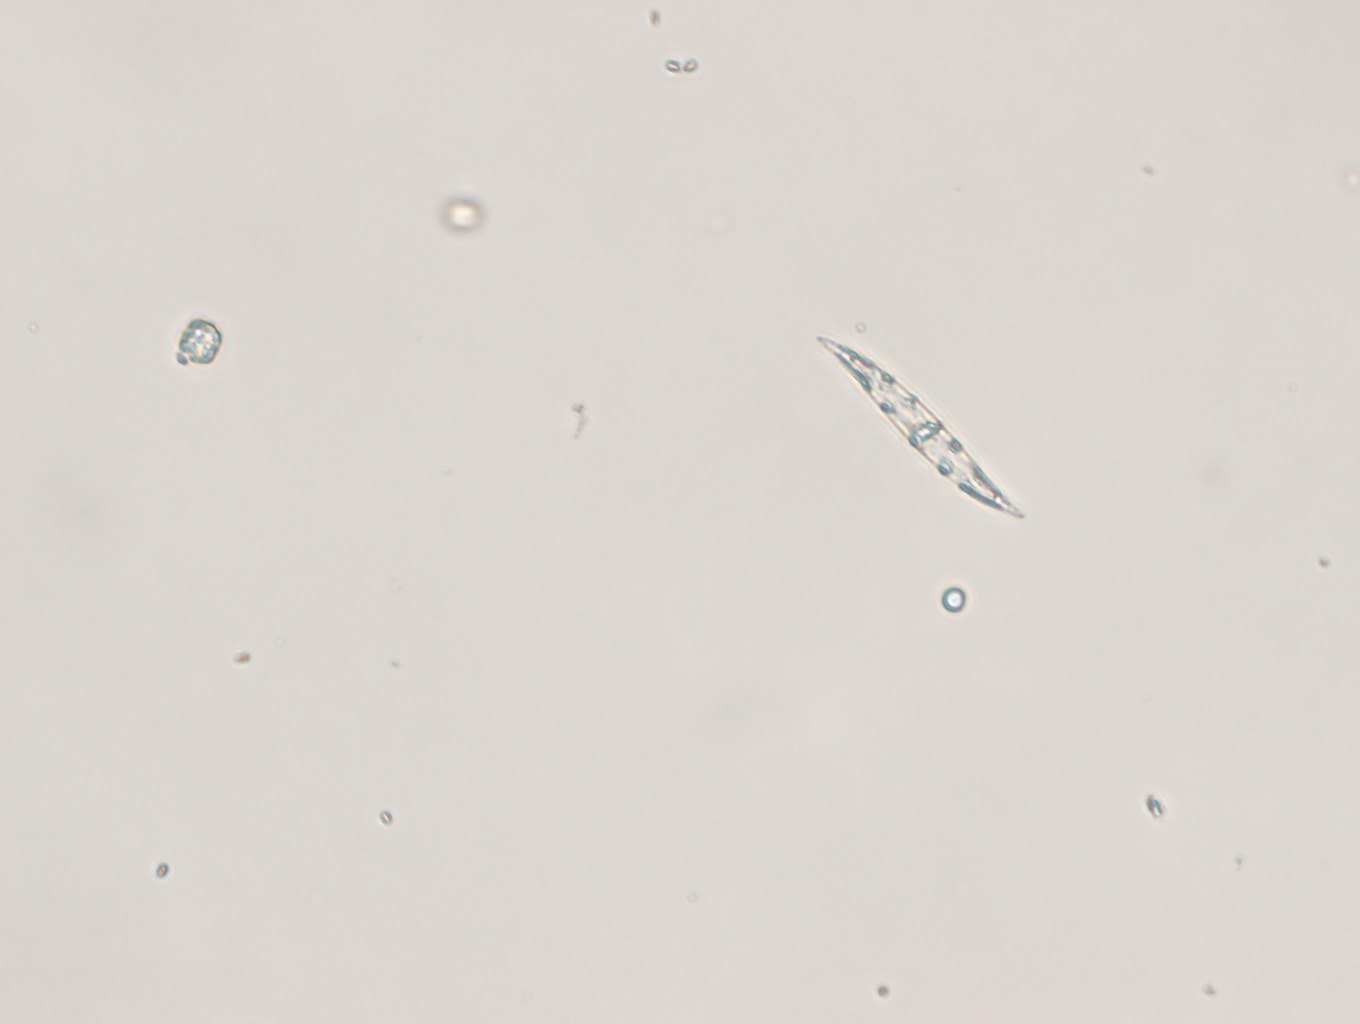pleurosigma pelagicum: (810, 333, 1035, 531)
